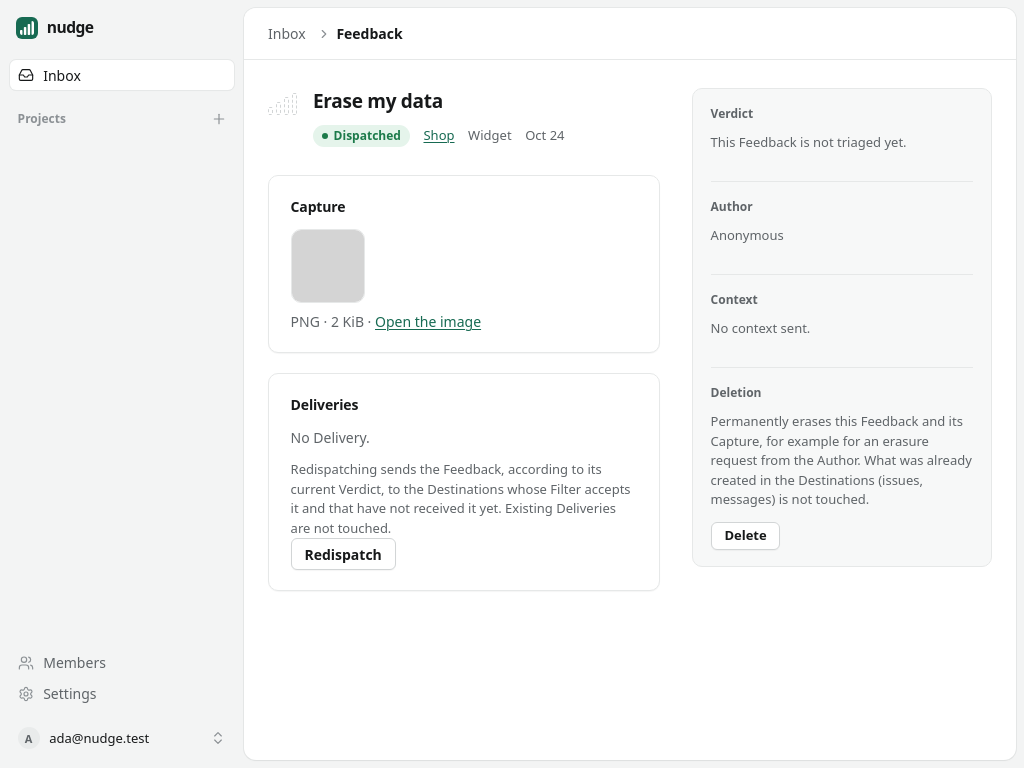
Deletion of a Feedback › explains a refusal and keeps the Feedback shown
Click the button "Delete" at (746, 536), box top-left (711, 522), bottom-right (780, 550)
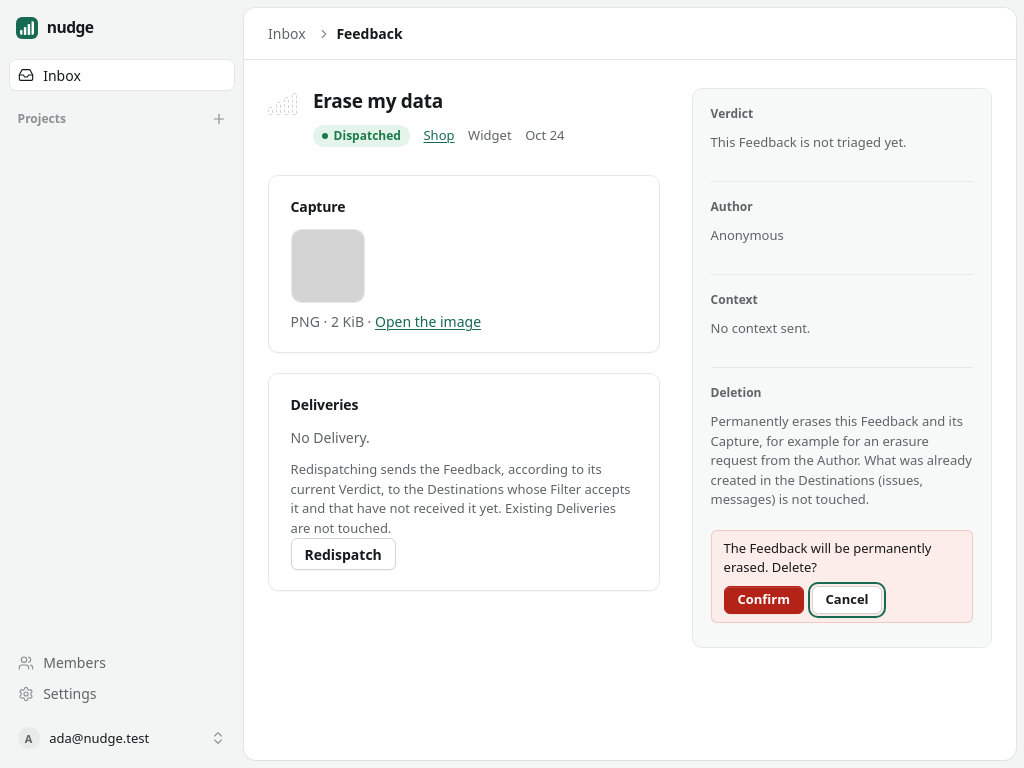
Click the button "Confirm" at (764, 600), box top-left (724, 586), bottom-right (804, 614)
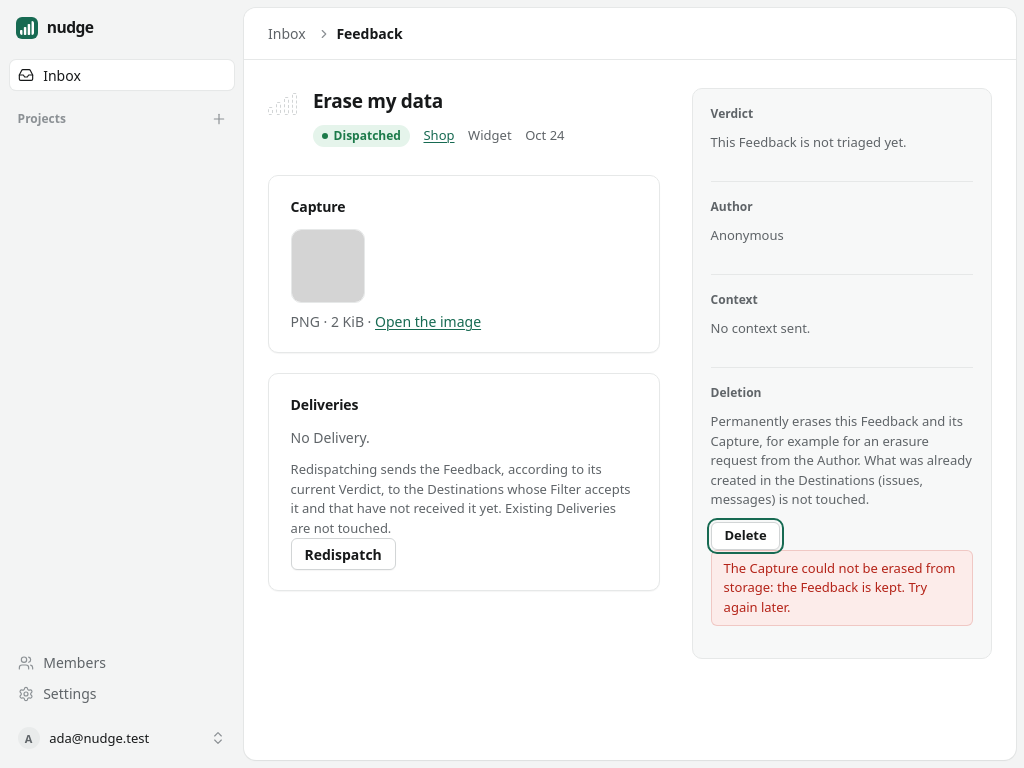
Expected: the text named "Feedback text" reads "Erase my data", top-left (313, 88), bottom-right (443, 114)
Expected: the message shows "Capture could not be erased", top-left (724, 559), bottom-right (955, 616)
